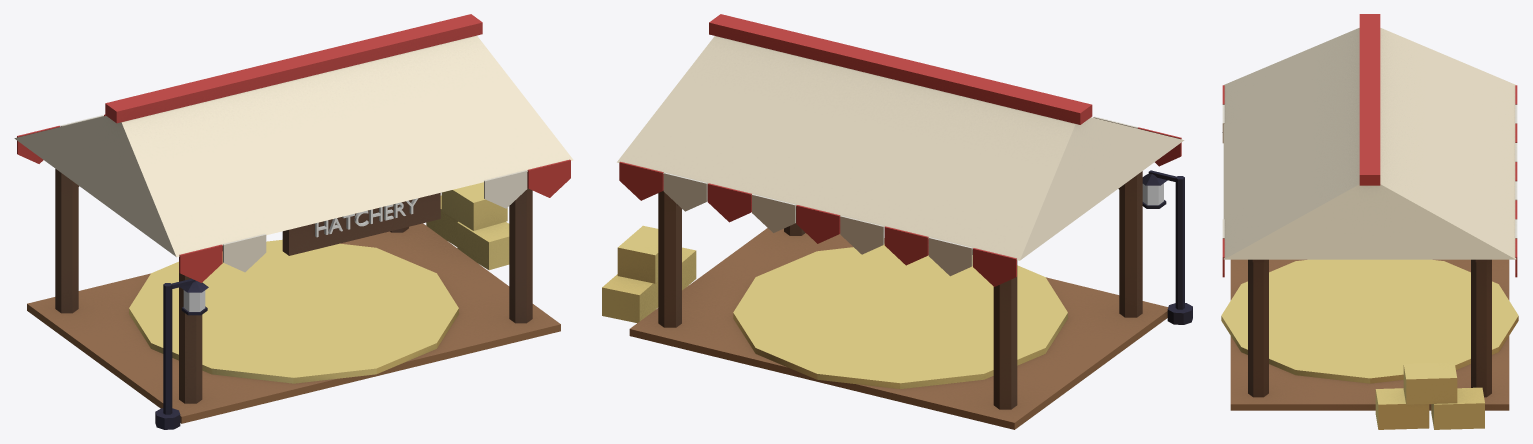
The model's file is home_hatchery_1.fbx.
The picture shows the model from 3 angles, left to right: view 1: azimuth 30°, elevation 25°; view 2: azimuth 150°, elevation 25°; view 3: azimuth 270°, elevation 25°; orthographic projection. The views are drawn at different scales.
Parts seen in each view (by area): view 1: home_hatchery_1_body; view 2: home_hatchery_1_body; view 3: home_hatchery_1_body.
Boxes of the visible parts, box(x1,y1,x2,y2) form: home_hatchery_1_body: box(14, 14, 573, 429); home_hatchery_1_body: box(602, 14, 1192, 429); home_hatchery_1_body: box(1221, 14, 1518, 429).
Bounding box in the file's own units: 1997 × 1105 × 1280.
Materials: 2 (1 with a texture image).
